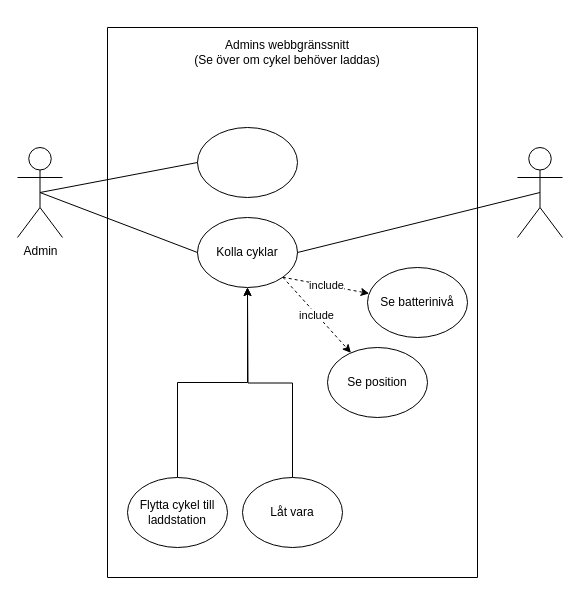
The diagram is 580 pixels wide and 595 high, and some of its shapes have lost their labels. The centre of each missing label's shape, as x and y in pixels:
"Cykel" belongs at pixel 539 192.
"Öppna webb- gränssnitt" belongs at pixel 247 162.
